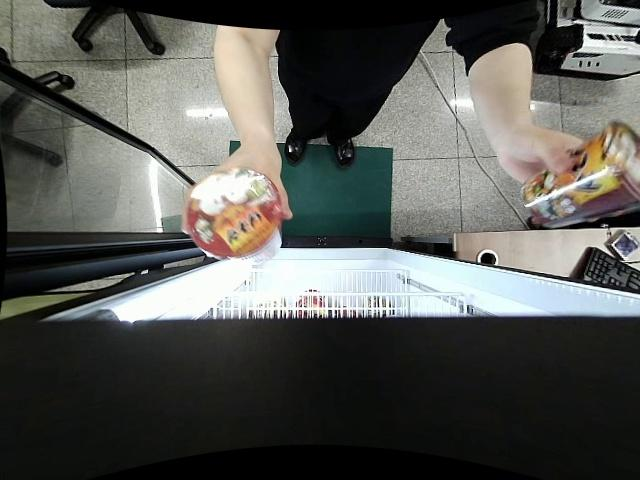00_hand: (180, 146, 294, 255), (501, 127, 625, 224)
06_nuguri_S: (520, 117, 640, 228), (187, 169, 285, 265)
